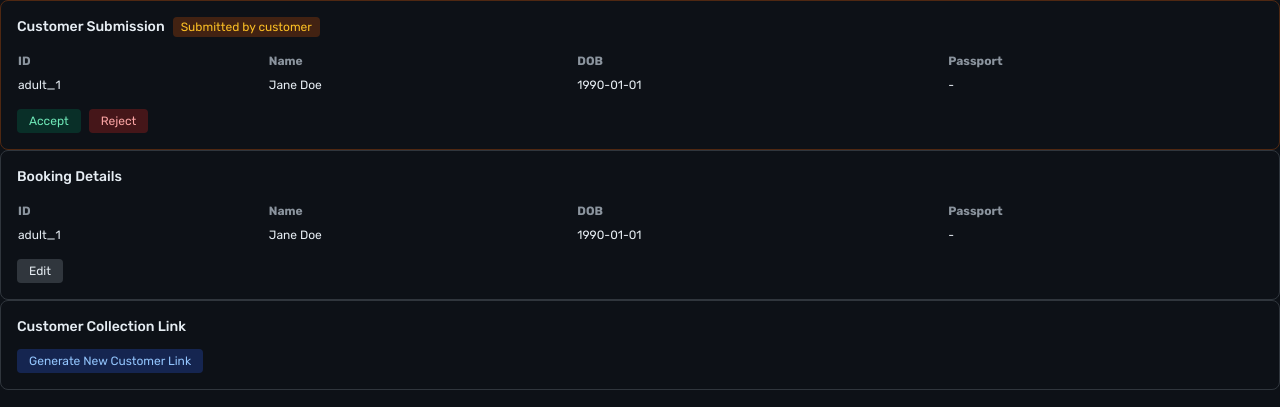
DataIntakeZone › accepts pending booking data
The width and height of the screenshot is (1280, 407).
Step 1. Click the button with test id "ops-accept-btn" → [49, 121], box left=17, top=109, right=81, bottom=133
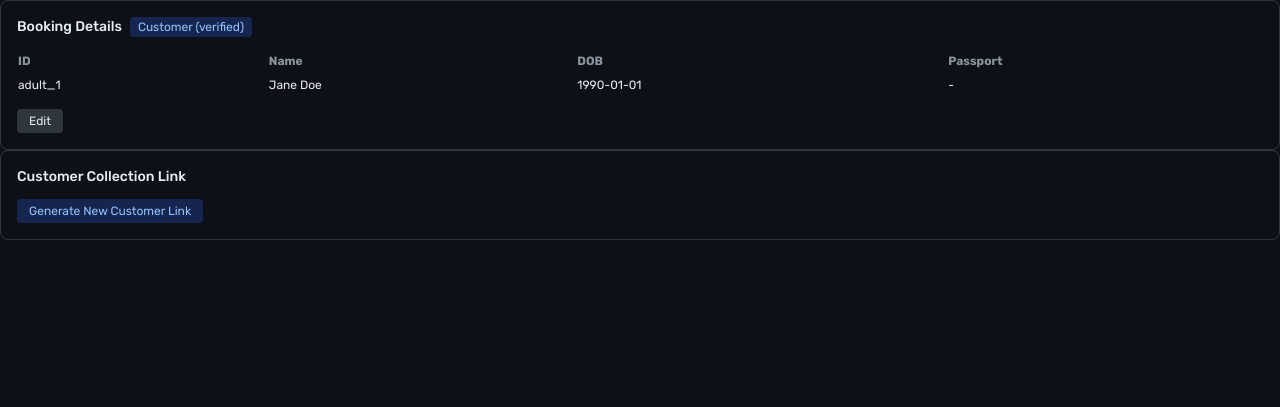
Expected: the element with test id "ops-pending-review" is gone
